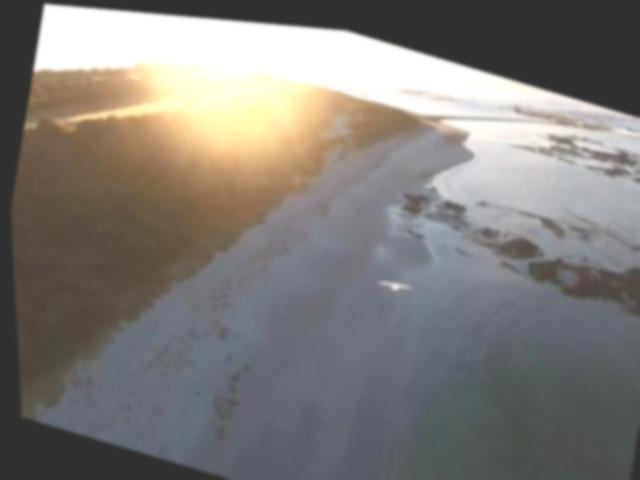uav: (370, 267, 411, 293)
